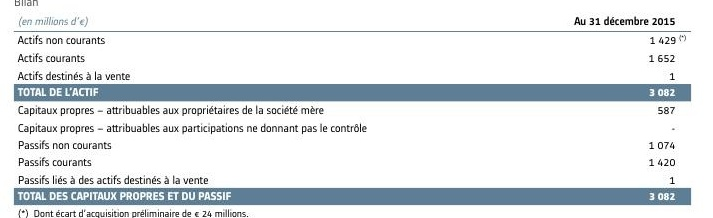table: (0, 0, 713, 218)
